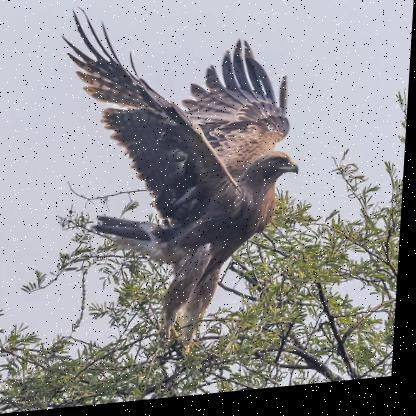Burung: (46, 0, 308, 398)
